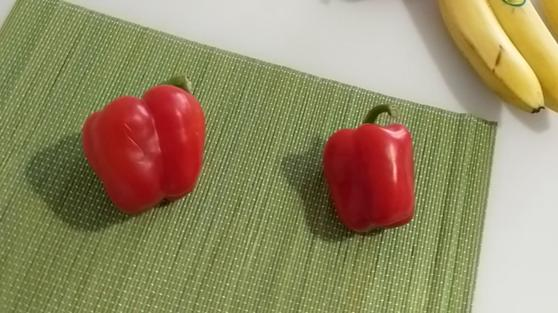banana: (441, 1, 550, 119)
pepper: (84, 74, 206, 212), (322, 103, 415, 233)
